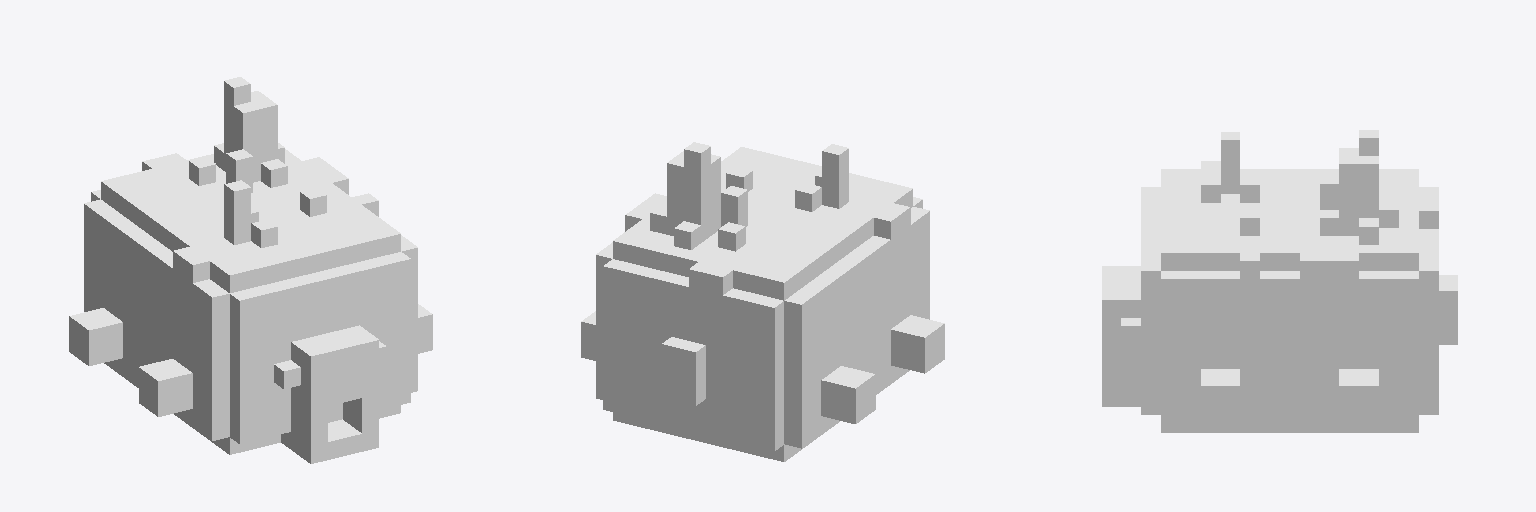
File: Voxels-16.obj
The picture shows the model from 3 angles: view 1: azimuth 30°, elevation 25°; view 2: azimuth 150°, elevation 25°; view 3: azimuth 270°, elevation 25°; orthographic projection.
Parts seen in each view (by area): view 1: Voxels-16; view 2: Voxels-16; view 3: Voxels-16.
Boxes of the visible parts, <box> form: Voxels-16: <box>69,77,432,463</box>; Voxels-16: <box>581,142,944,461</box>; Voxels-16: <box>1102,130,1457,432</box>.
Size of the model in its own units: 16 by 15 by 18.